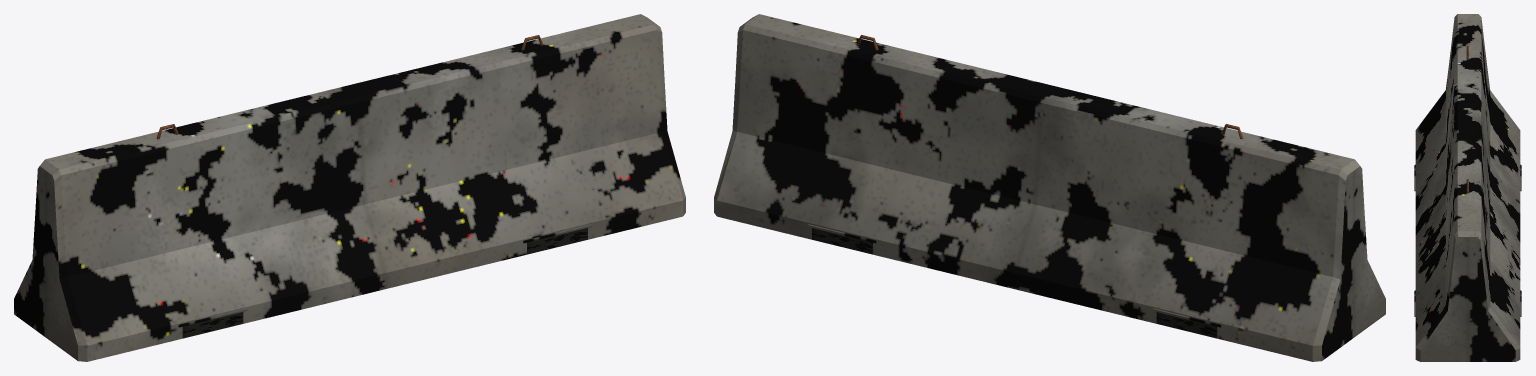
Rendered from jersey_barrier.glb.
3 renders of one model, left to right at view 1: azimuth 30°, elevation 25°; view 2: azimuth 150°, elevation 25°; view 3: azimuth 270°, elevation 25°, orthographic. The views are drawn at different scales.
Visible parts, largest first — view 1: jersey_barrier; view 2: jersey_barrier; view 3: jersey_barrier.
Part boxes in pixels (left/top/right/bottom): jersey_barrier: left=14, top=14, right=685, bottom=361; jersey_barrier: left=714, top=14, right=1385, bottom=361; jersey_barrier: left=1414, top=14, right=1521, bottom=361.
Size of the model in its own units: 3 by 0.8606 by 0.612.
Materials: 2 (2 with a texture image).
